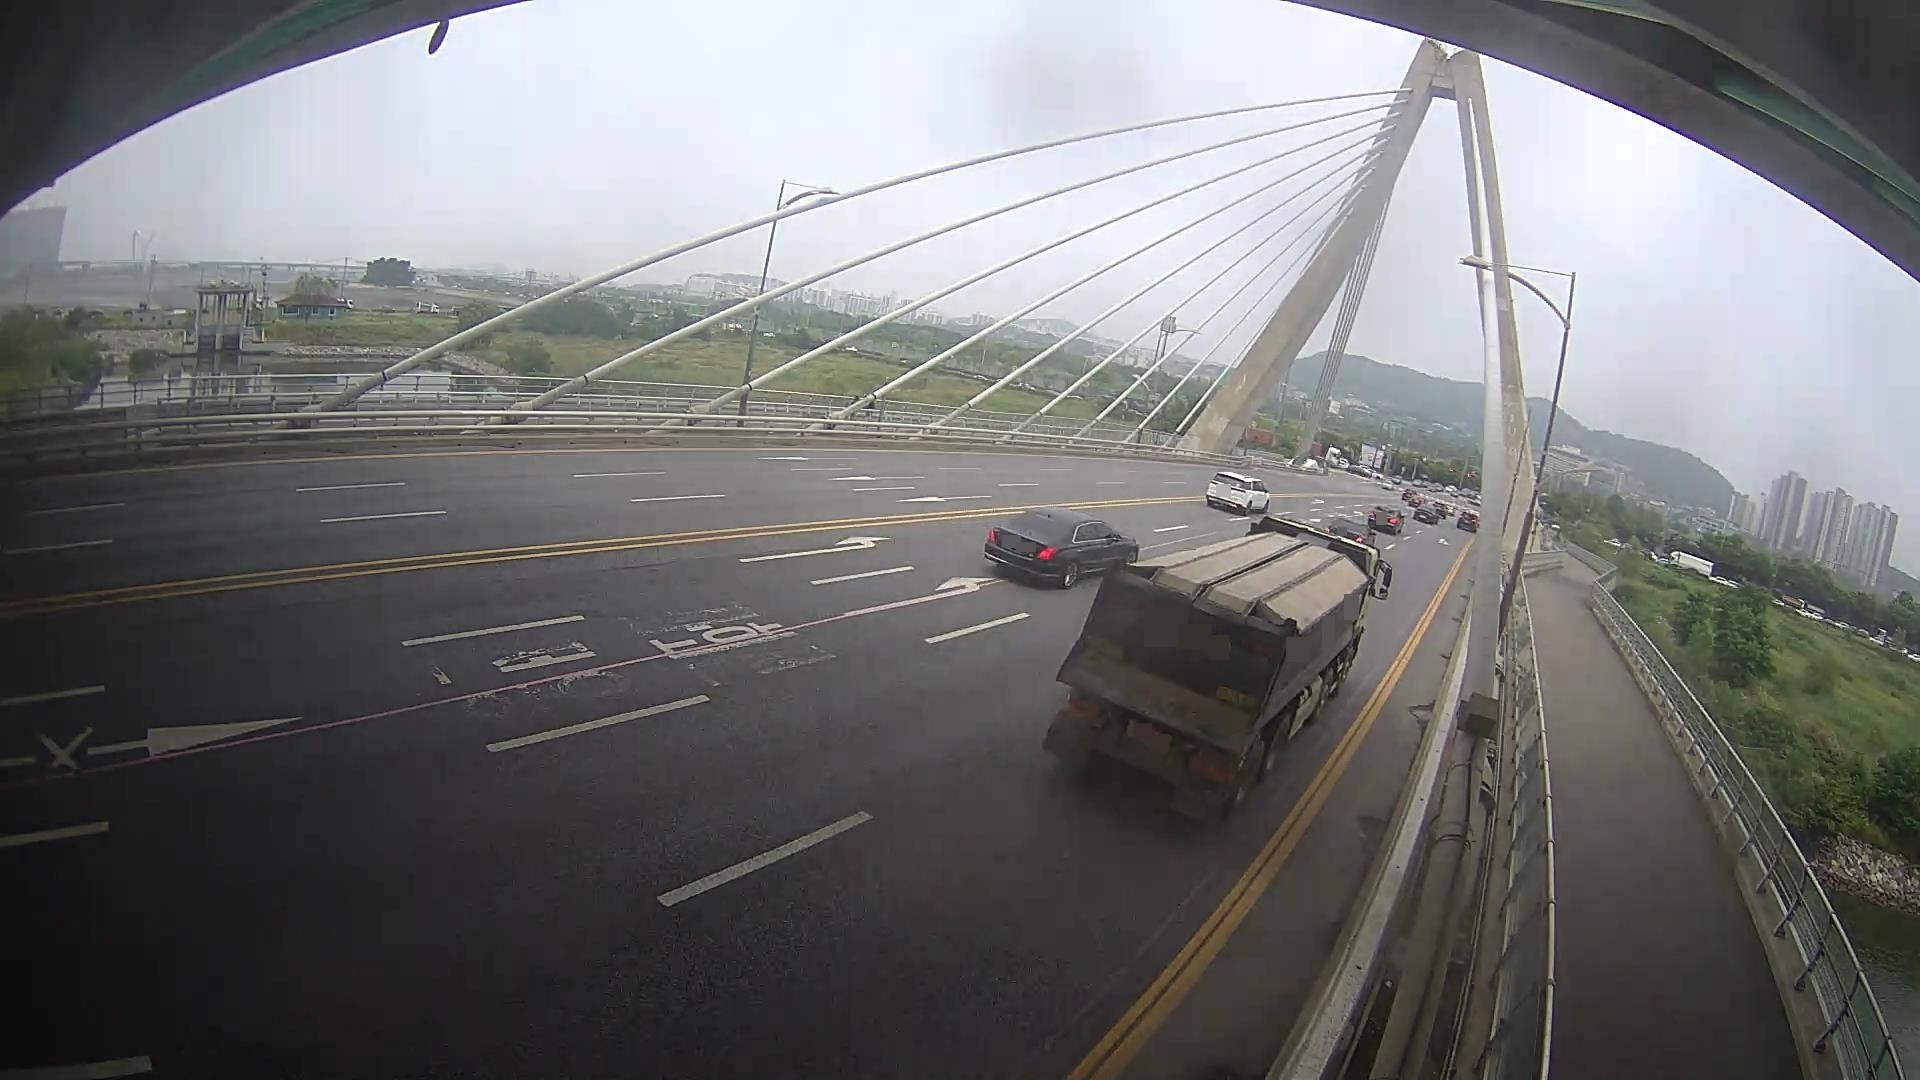정상차량: (1037, 507, 1393, 839)
